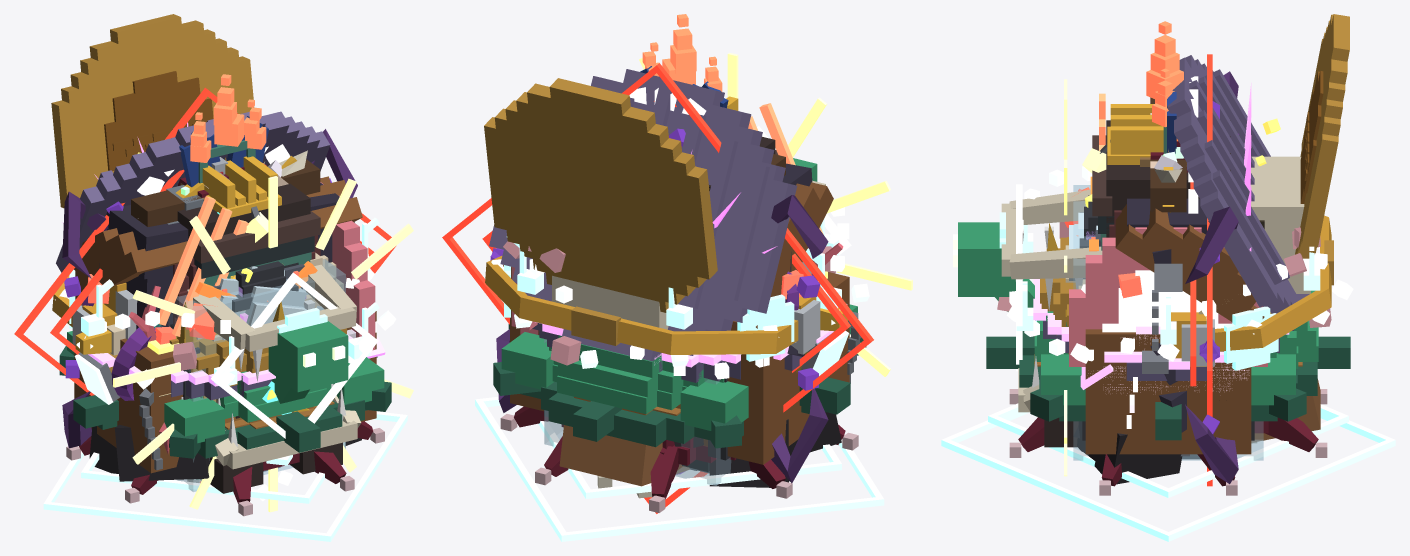
Rendered from relics_bundle_1.glb.
3 views of the same model, side by side, from view 1: azimuth 30°, elevation 25°; view 2: azimuth 150°, elevation 25°; view 3: azimuth 270°, elevation 25° (orthographic). The views are drawn at different scales.
Visible parts, largest first — view 1: R034_Main, R022_Main, R032_Main, R042_Accent, R038_Aura_Waves, R022_Accent, R043_Main, R041_Aura_Rays, R034_Trim, R050_Main, R057_Main, R060_Aura_Pulse (+39 smaller); view 2: R034_Main, R042_Accent, R022_Main, R032_Main, R038_Aura_Waves, R022_Accent, R011_Main, R060_Aura_Pulse, R036_Main, R050_Accent, R046_Main, R041_Aura_Rays (+18 smaller); view 3: R032_Main, R042_Accent, R043_Main, R022_Main, R038_Aura_Waves, R022_Accent, R034_Main, R013_Accent, R011_Main, R050_Accent, R036_Trim, R057_Main (+27 smaller).
Part boxes in pixels (x1,y1,x2,y2): R034_Main: (51,14,346,386); R022_Main: (67,321,384,443); R032_Main: (74,176,376,473); R042_Accent: (56,111,330,272); R038_Aura_Waves: (43,411,407,541); R022_Accent: (59,346,391,458); R043_Main: (187,264,361,469); R041_Aura_Rays: (113,176,413,512); R034_Trim: (104,71,213,171); R050_Main: (98,182,339,329); R057_Main: (177,183,342,493); R060_Aura_Pulse: (14,87,395,482); R034_Main: (484,78,717,312); R042_Accent: (489,69,797,361); R022_Main: (501,158,857,430); R032_Main: (503,182,849,464); R038_Aura_Waves: (475,396,884,541); R022_Accent: (493,324,866,448); R011_Main: (485,256,816,354); R060_Aura_Pulse: (442,63,873,513); R036_Main: (559,425,689,486); R050_Accent: (496,195,828,483); R046_Main: (514,406,845,499); R041_Aura_Rays: (639,52,912,376); R032_Main: (1085,204,1264,454); R042_Accent: (1167,55,1309,313); R043_Main: (1001,156,1310,412); R022_Main: (958,222,1318,405); R038_Aura_Waves: (941,403,1395,541); R022_Accent: (986,331,1350,440); R034_Main: (1040,14,1349,335); R013_Accent: (1069,227,1267,366); R011_Main: (1171,215,1331,366); R050_Accent: (1185,71,1238,484); R036_Trim: (1107,104,1163,164); R057_Main: (1044,120,1230,447).
Size of the model in its own units: 2.88 by 3.08 by 2.74.
